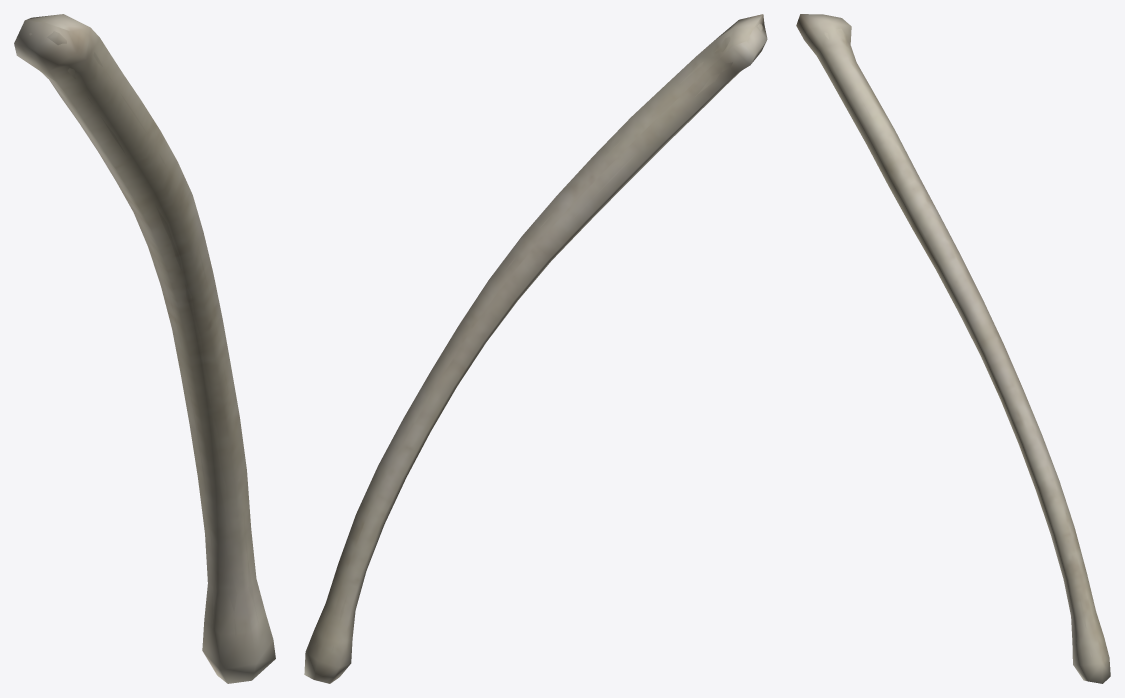
Rendered from Rib L09.fbx.
3 renders of one model, left to right at view 1: azimuth 30°, elevation 25°; view 2: azimuth 150°, elevation 25°; view 3: azimuth 270°, elevation 25°, orthographic. The views are drawn at different scales.
Visible parts, largest first — view 1: Rib L09 low, Rib L09; view 2: Rib L09 low, Rib L09; view 3: Rib L09 low, Rib L09.
Boxes of the visible parts, <box> form: Rib L09 low: <box>14,14,275,683</box>; Rib L09: <box>29,31,258,670</box>; Rib L09 low: <box>304,14,767,683</box>; Rib L09: <box>315,23,762,673</box>; Rib L09 low: <box>796,14,1110,683</box>; Rib L09: <box>818,28,1103,656</box>.
Bounding box in the file's own units: 2.94 × 5.54 × 2.88.
Materials: 1 (1 with a texture image).
